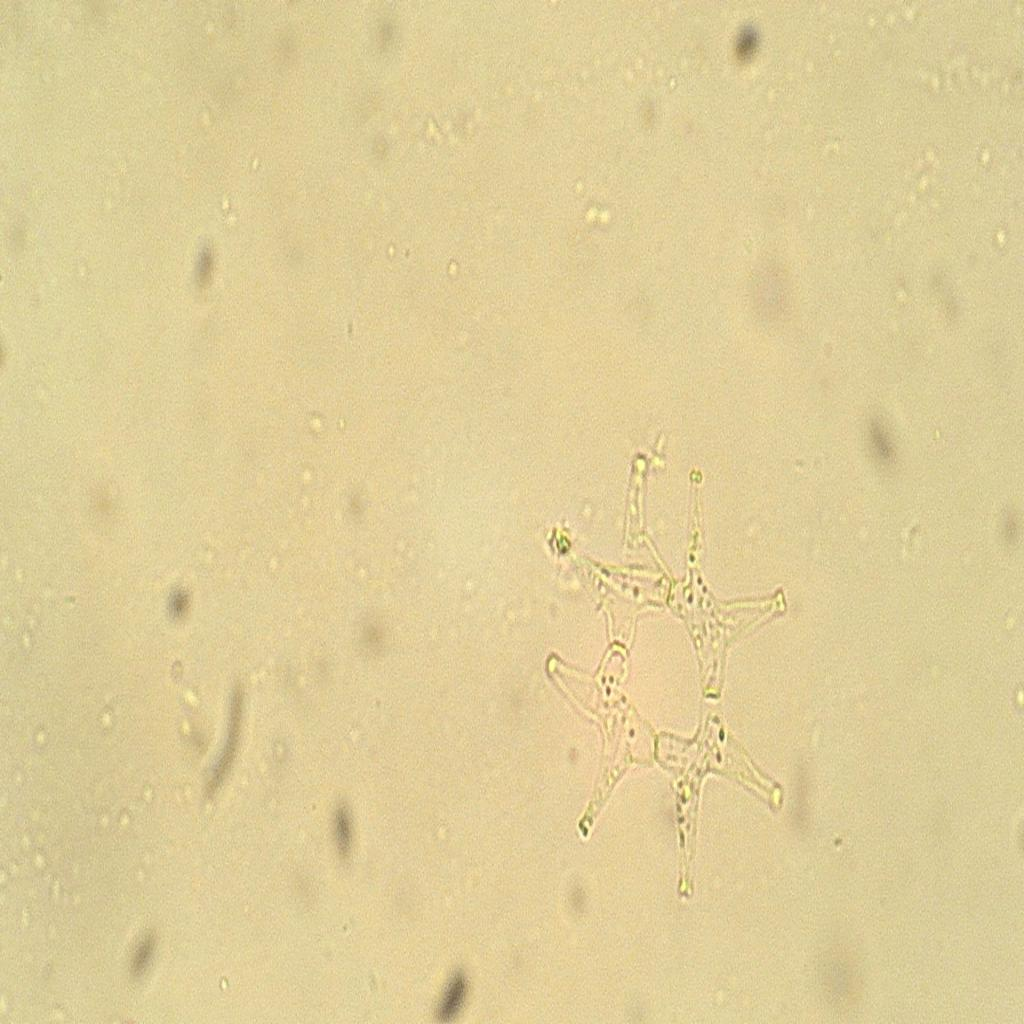Pediastrum_1F0: (532, 440, 799, 910)
